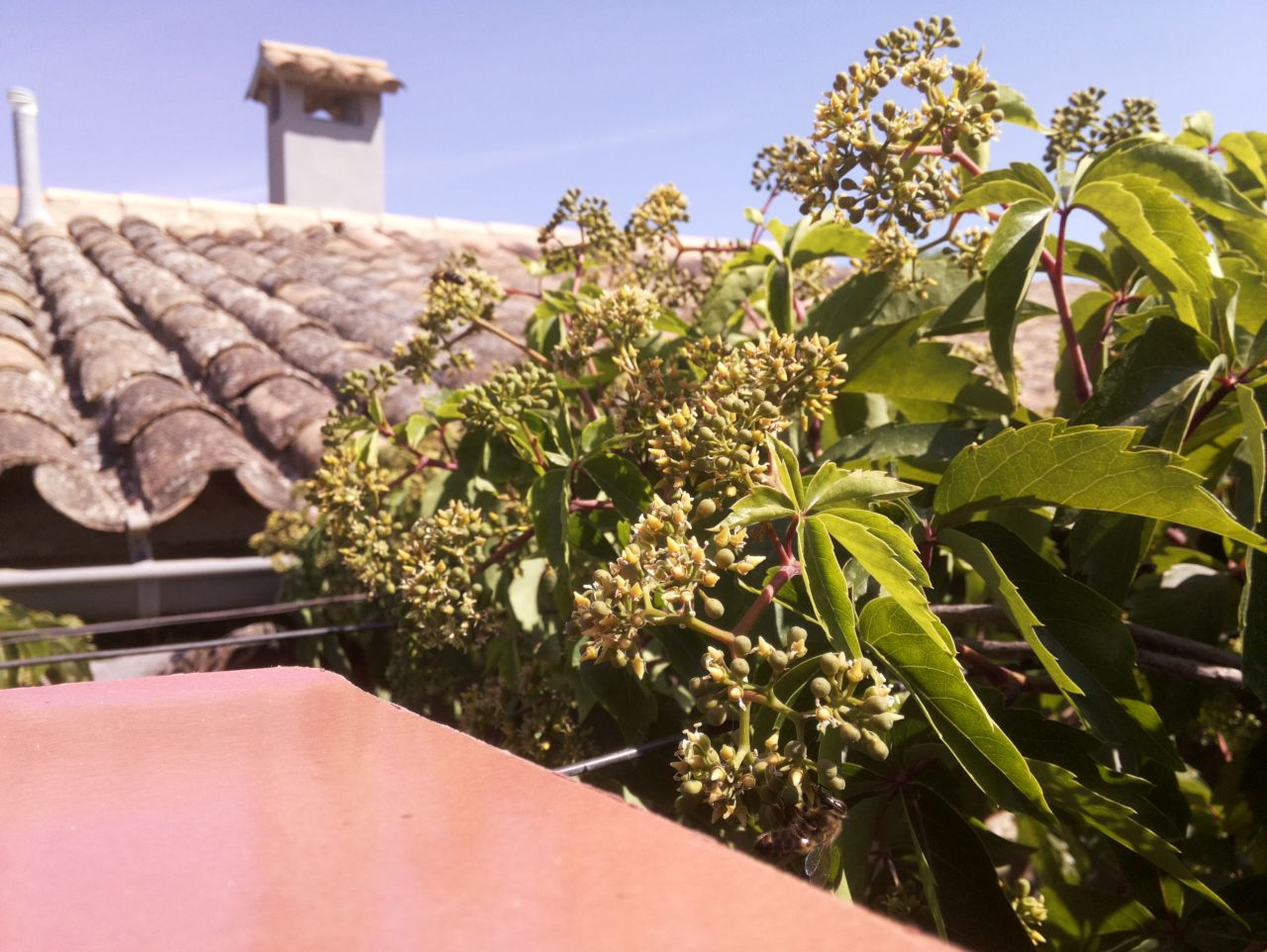Apis mellifera: (757, 777, 850, 881)
Unidentified insect: (434, 262, 485, 295)
